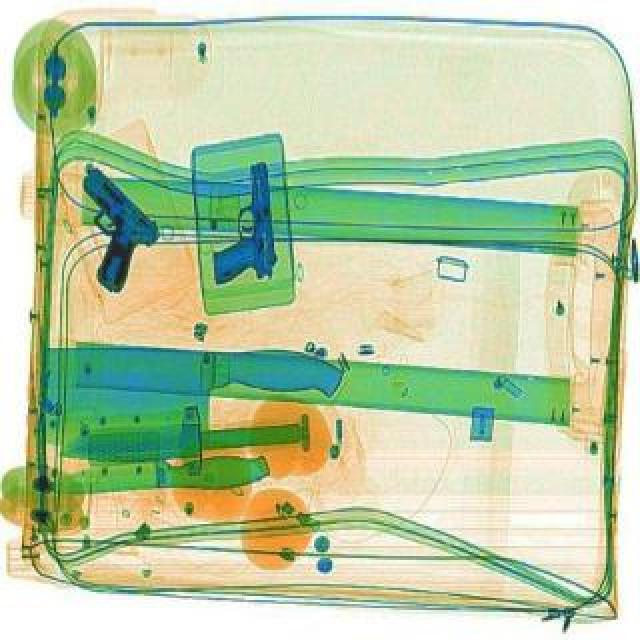gun: (36, 164, 180, 296), (198, 158, 286, 284)
knife: (42, 344, 346, 454), (62, 410, 310, 464), (48, 450, 274, 500)
